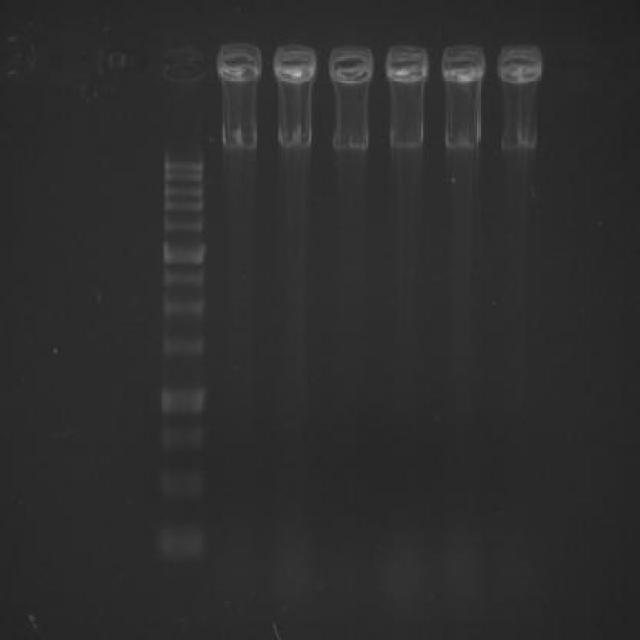L: (143, 27, 560, 104)
M: (148, 133, 214, 572)
P: (154, 460, 210, 508), (154, 524, 212, 567), (153, 380, 210, 418), (156, 328, 210, 366), (154, 287, 208, 324), (156, 422, 210, 458), (156, 237, 210, 266), (156, 263, 209, 289), (158, 213, 208, 236), (159, 195, 207, 212), (159, 180, 207, 196), (158, 162, 208, 172), (161, 172, 207, 180)
Pc: (490, 36, 550, 96), (378, 37, 436, 95), (154, 37, 212, 94), (434, 37, 491, 95), (322, 36, 378, 95), (268, 37, 324, 94), (214, 37, 268, 94)
